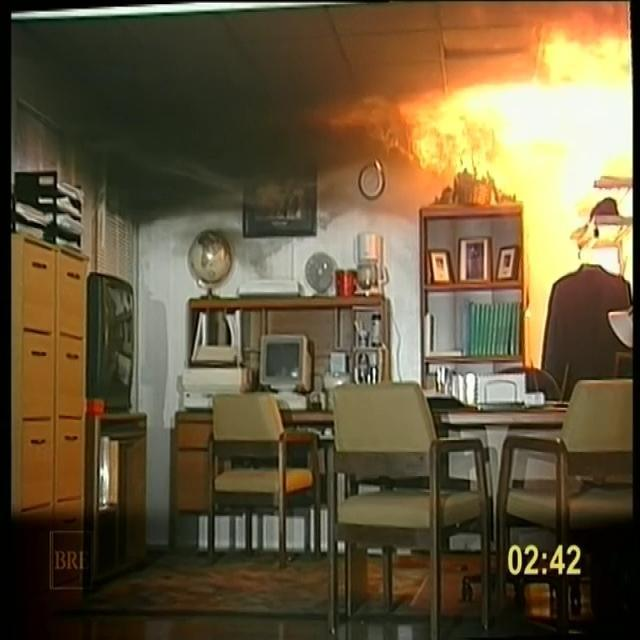Fire: (453, 25, 629, 152)
